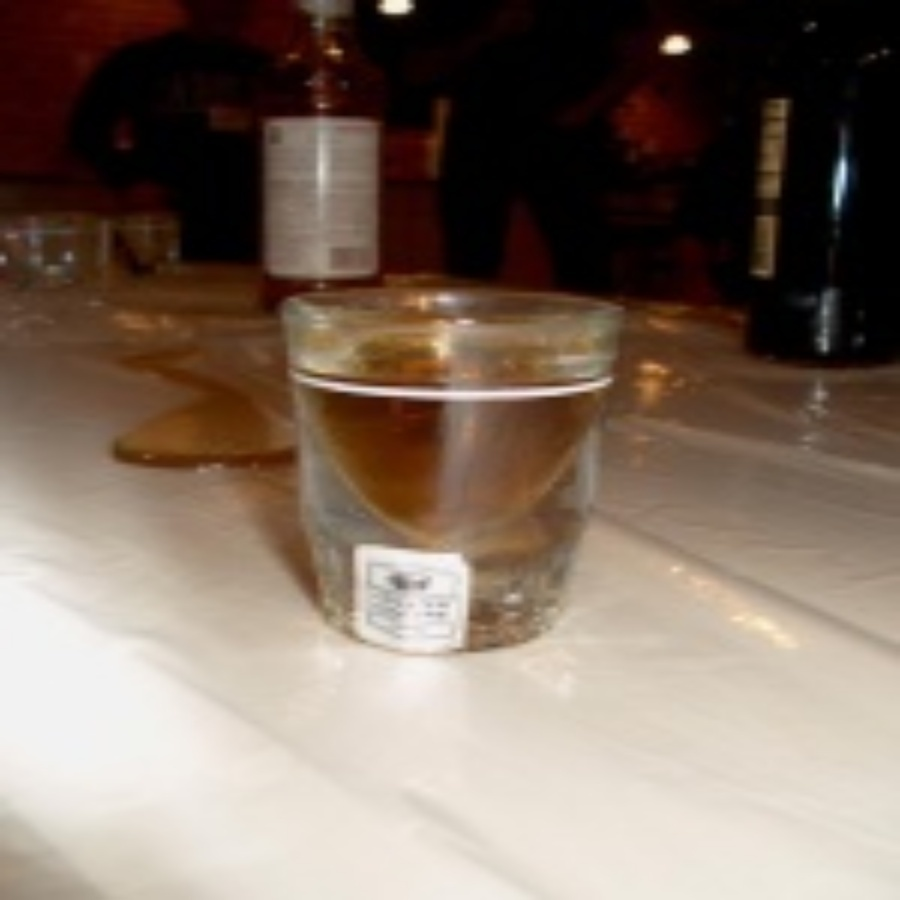whiskey: (305, 294, 622, 644)
